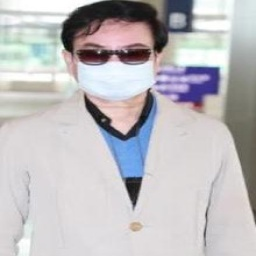correctlyWear: (62, 32, 161, 101)
